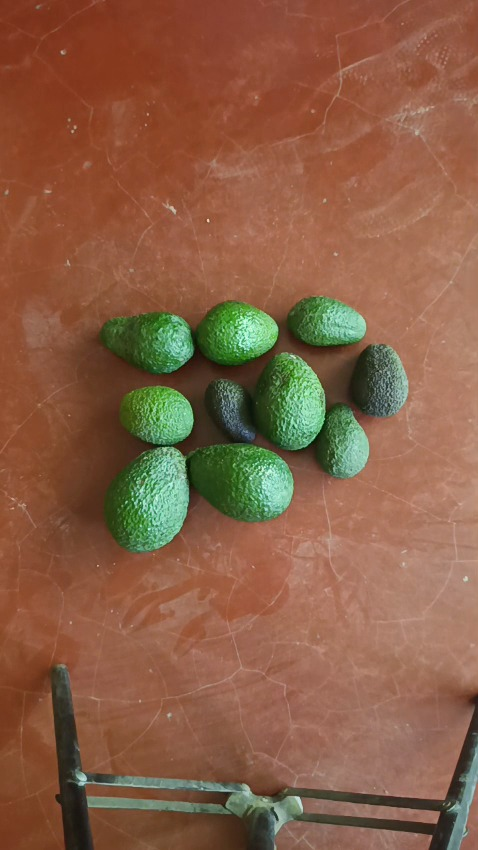Primera: (103, 446, 191, 550)
Segunda: (252, 352, 325, 450), (100, 312, 195, 374)
Tercera: (186, 443, 293, 521), (195, 301, 279, 366), (118, 385, 195, 446), (350, 343, 408, 417), (315, 404, 369, 479), (286, 296, 365, 347), (204, 377, 257, 443)
